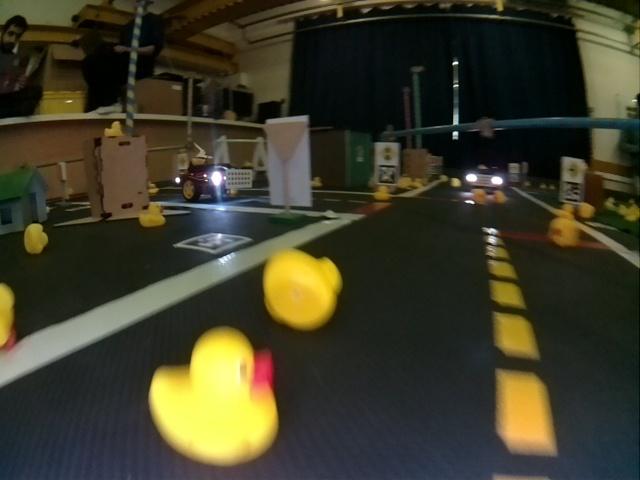Duckie: (148, 328, 279, 465), (263, 249, 341, 330), (2, 282, 17, 352), (24, 224, 49, 255), (549, 222, 579, 247), (139, 204, 165, 228), (579, 203, 594, 219), (104, 122, 121, 136), (470, 191, 488, 204), (373, 188, 389, 200), (495, 191, 506, 204), (450, 177, 461, 187)
Duckiebot: (180, 167, 253, 201), (464, 168, 507, 190)
QR code: (174, 232, 253, 253), (561, 182, 581, 201), (376, 165, 396, 184)
